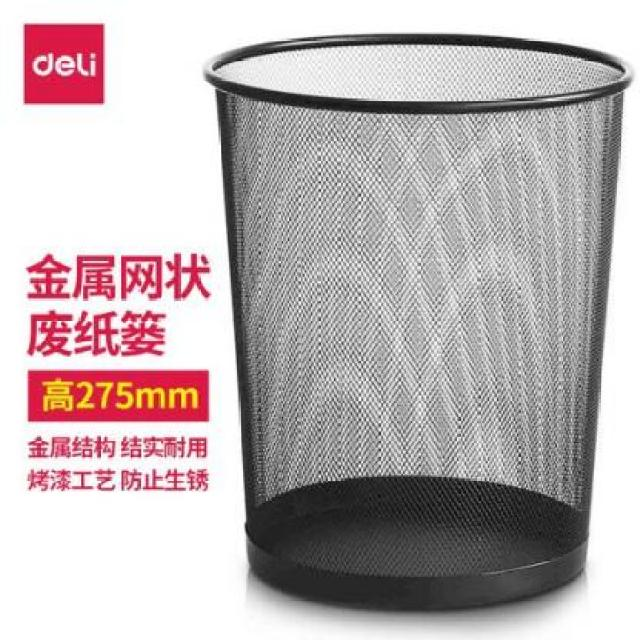dustbin: (200, 28, 635, 616)
